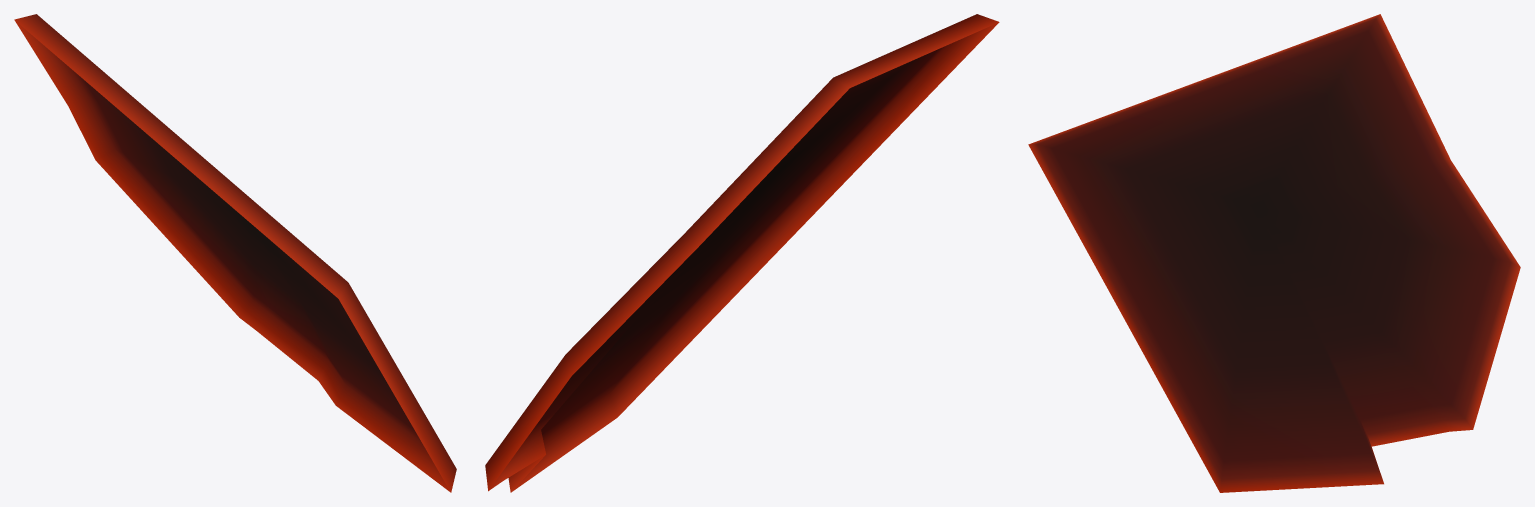
Rendered from raft_54.glb.
The picture shows the model from 3 angles, left to right: view 1: azimuth 30°, elevation 25°; view 2: azimuth 150°, elevation 25°; view 3: azimuth 270°, elevation 25°; orthographic projection. The views are drawn at different scales.
Parts seen in each view (by area): view 1: raft; view 2: raft; view 3: raft.
Boxes of the visible parts, x1,y1,x2,y2 form: raft: (14, 14, 456, 492); raft: (485, 14, 999, 492); raft: (1028, 14, 1520, 492).
Size of the model in its own units: 0.8688 by 1.18 by 1.46.
